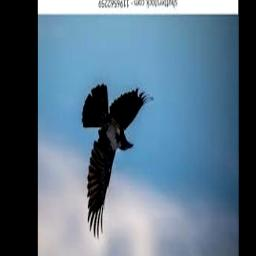Crow: (82, 85, 154, 239)
